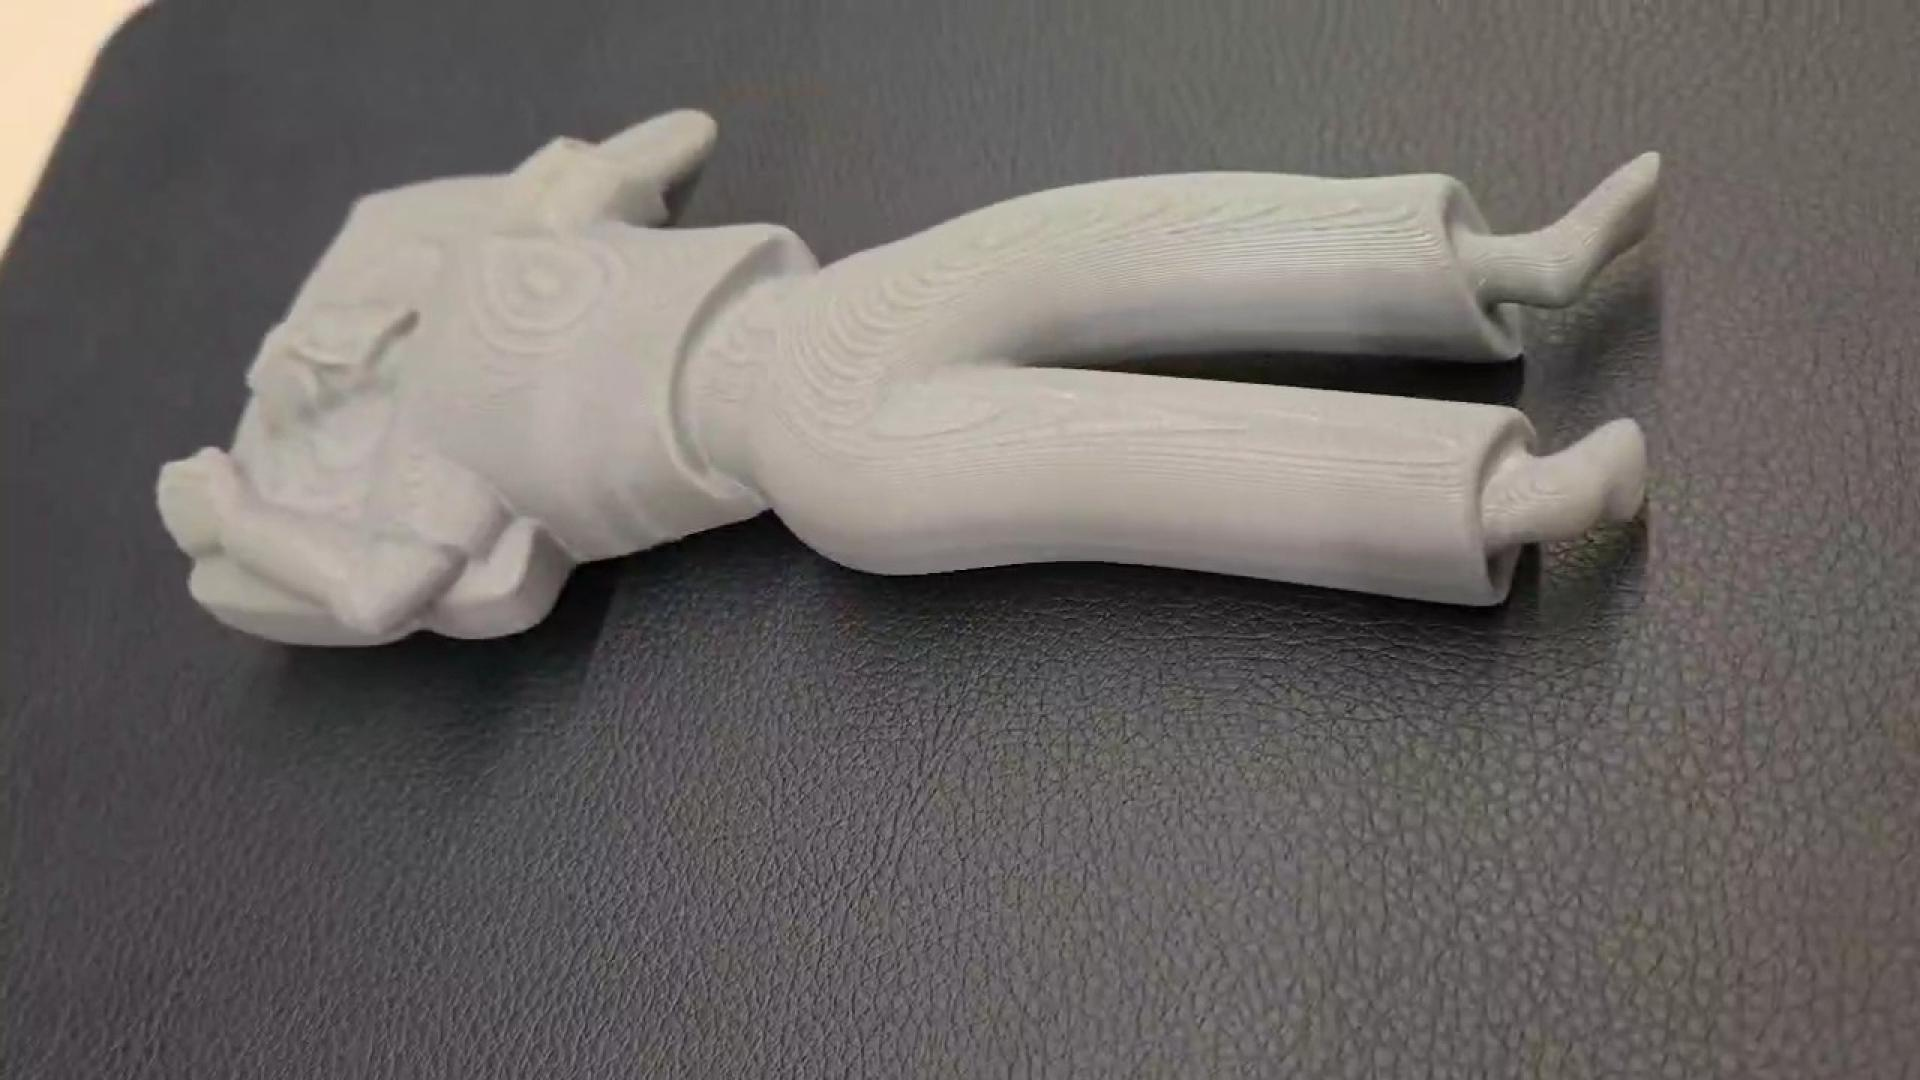Bad-style: (150, 108, 1660, 641)
